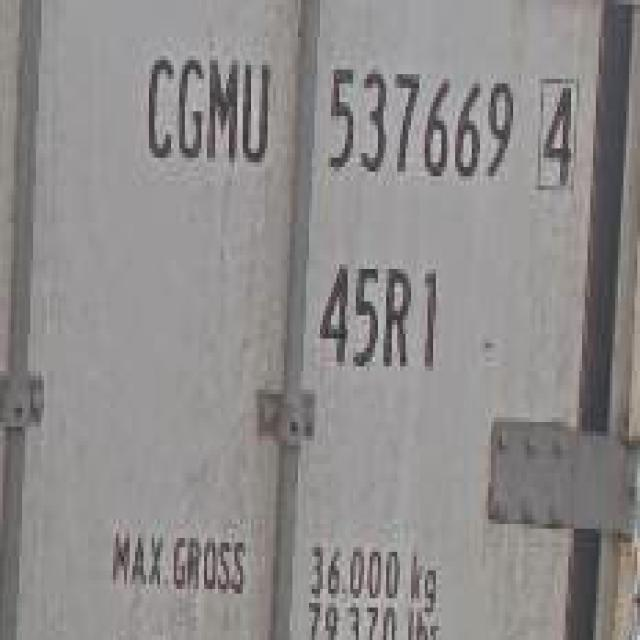dv: (532, 64, 580, 204)
owner: (139, 34, 284, 184)
serial: (324, 55, 518, 196)
size: (314, 250, 444, 378)
